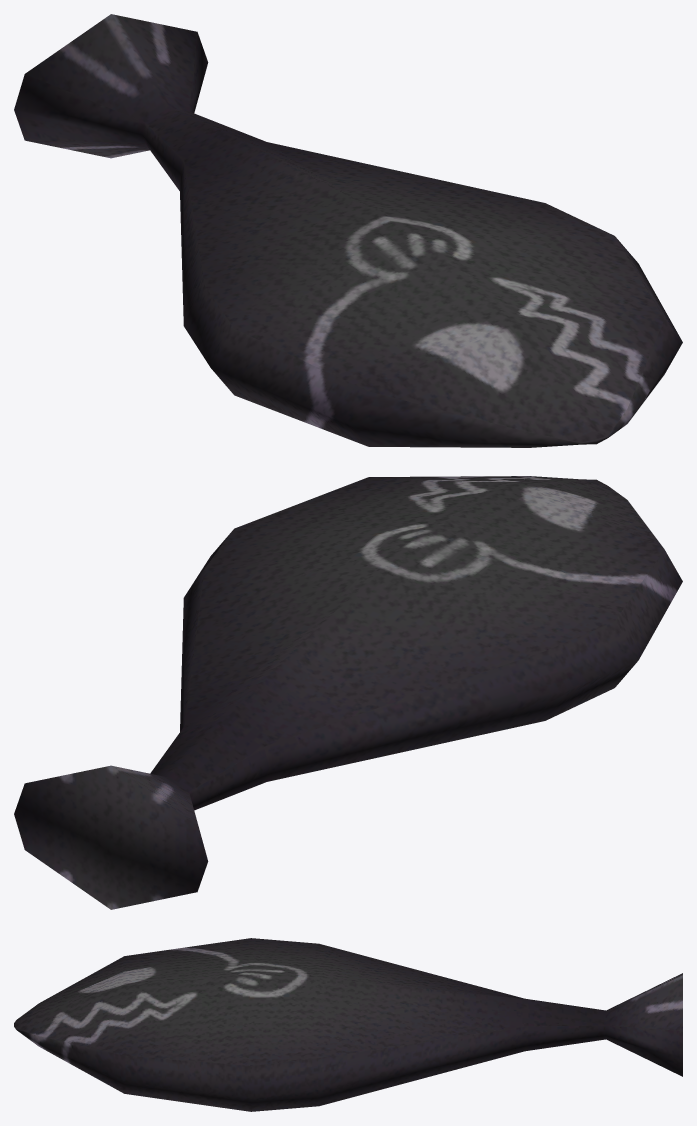
The model's file is M_FishmaceA_3.glb.
The picture shows the model from 3 angles, top to bottom: view 1: azimuth 30°, elevation 25°; view 2: azimuth 150°, elevation 25°; view 3: azimuth 270°, elevation 25°; orthographic projection. The views are drawn at different scales.
Parts seen in each view (by area): view 1: SM_FishmaceA; view 2: SM_FishmaceA; view 3: SM_FishmaceA.
Boxes of the visible parts, <box> form: SM_FishmaceA: <box>14,14,682,447</box>; SM_FishmaceA: <box>14,476,682,909</box>; SM_FishmaceA: <box>14,938,682,1111</box>.
Bounding box in the file's own units: 0.452 × 0.1457 × 0.8884.
1 material, 1 textured.
